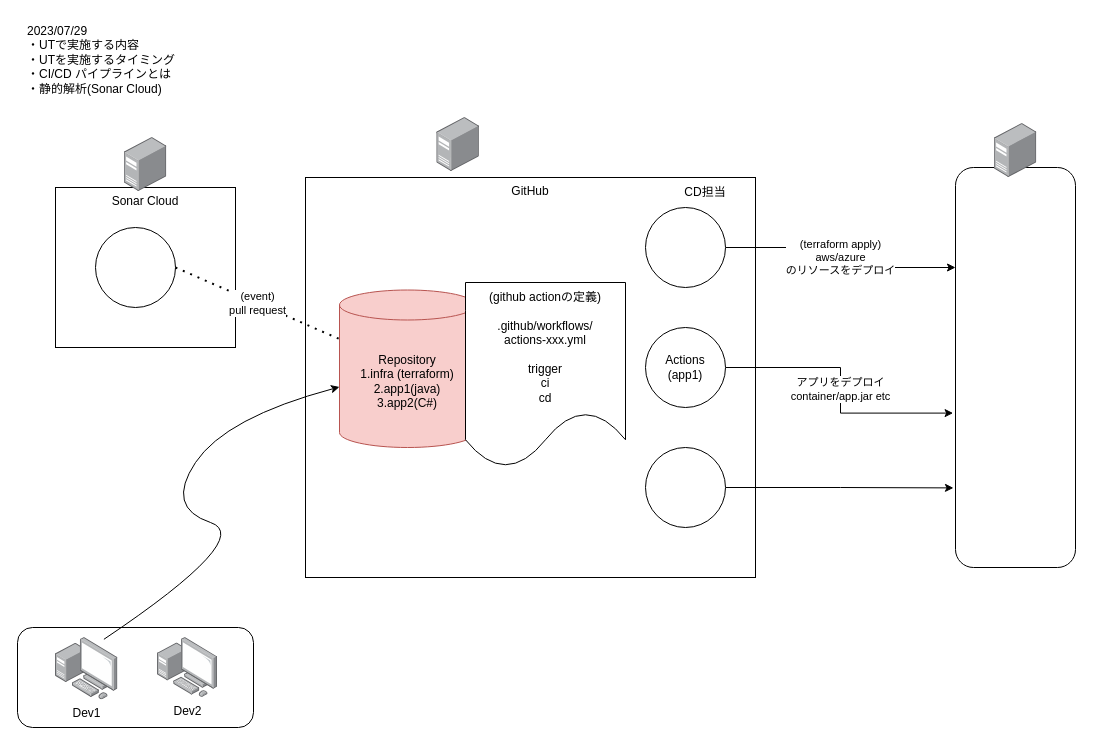
The diagram is 1093 pixels wide and 745 high, and some of its shapes have lost their labels. Here are the shapes that lost their labels. From the top down, the centre of each, then its label:
the point at 135,267: CIの中の 静的解析担当
the point at 685,247: Actions (infra)
the point at 1015,367: Public Cloud AWS/Azure
the point at 685,487: Actions (app2)
